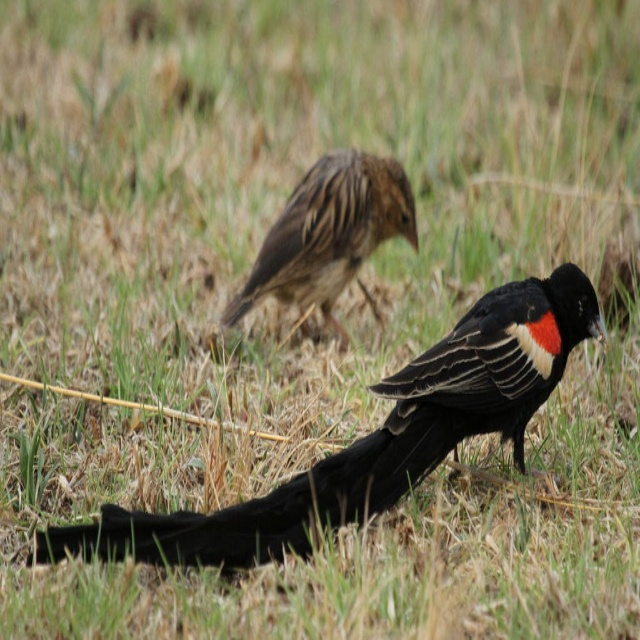Sparrow: (218, 143, 420, 349)
